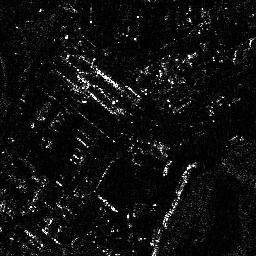ship: (174, 162, 196, 196)
